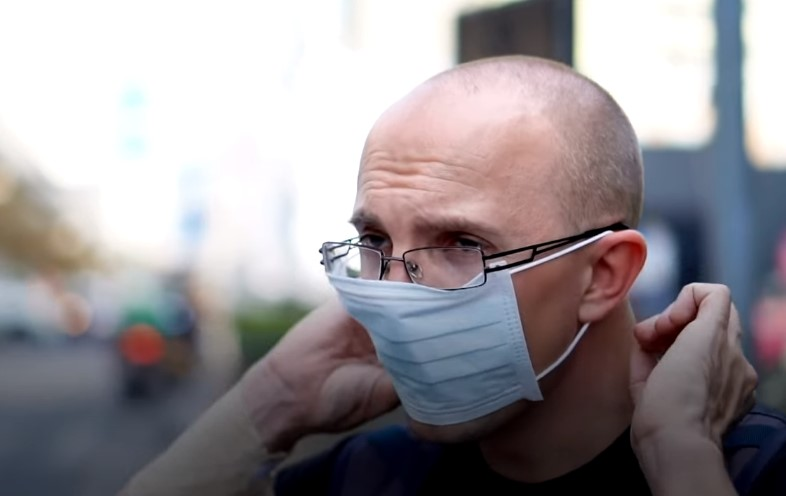face_with_mask: (319, 56, 648, 428)
